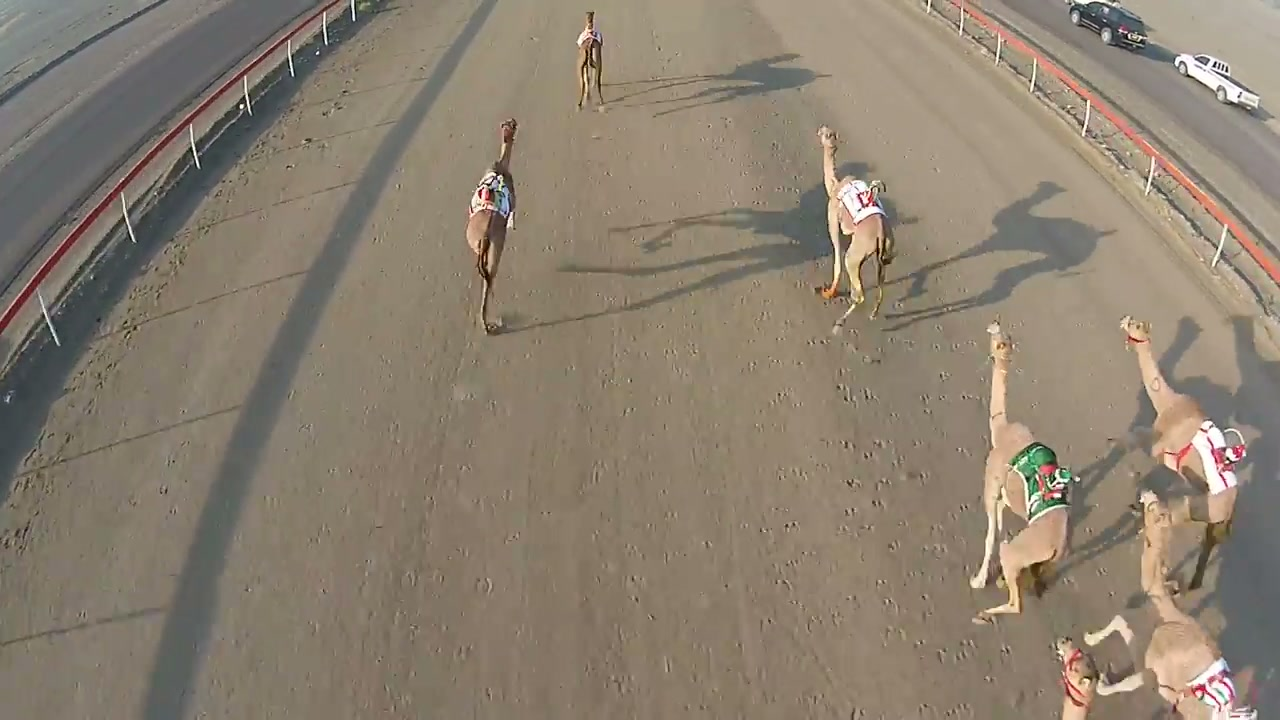animal_foot_print: (802, 298, 1004, 719)
